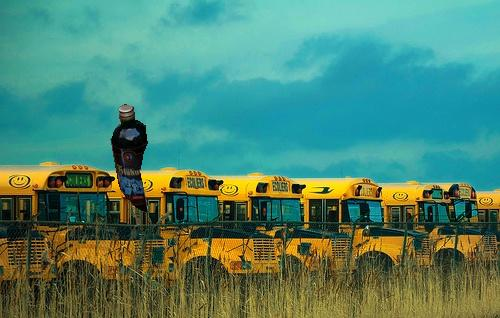tampered: (111, 105, 148, 213)
